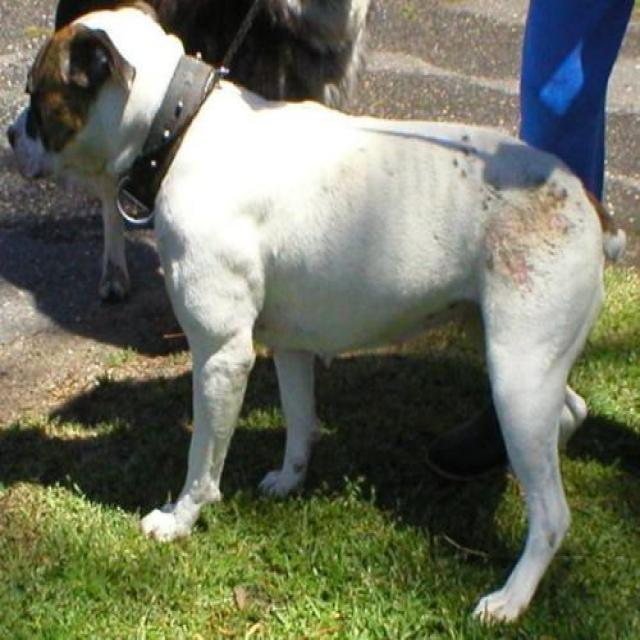Dogs: (5, 3, 625, 626)
